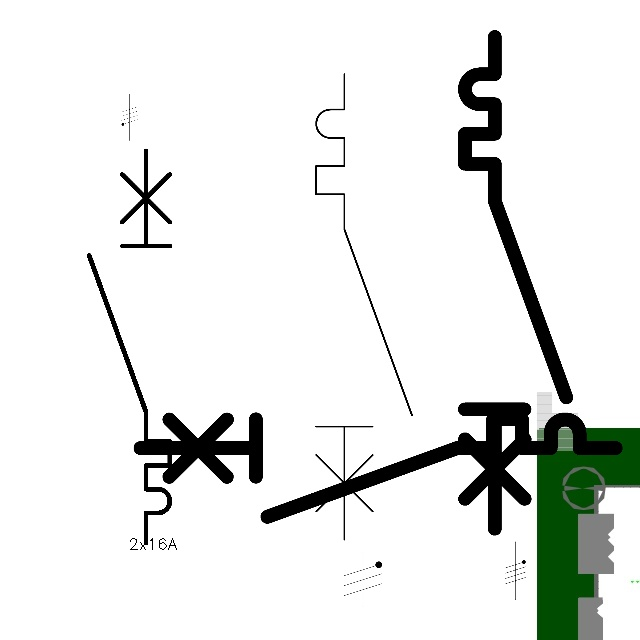interruptor_termomagnetico: (452, 24, 579, 542), (128, 407, 628, 529), (304, 62, 424, 551), (79, 140, 180, 553)
